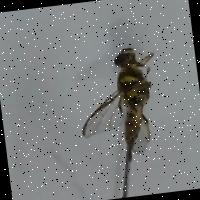Oriental-fruit-fly: (54, 33, 177, 172)
